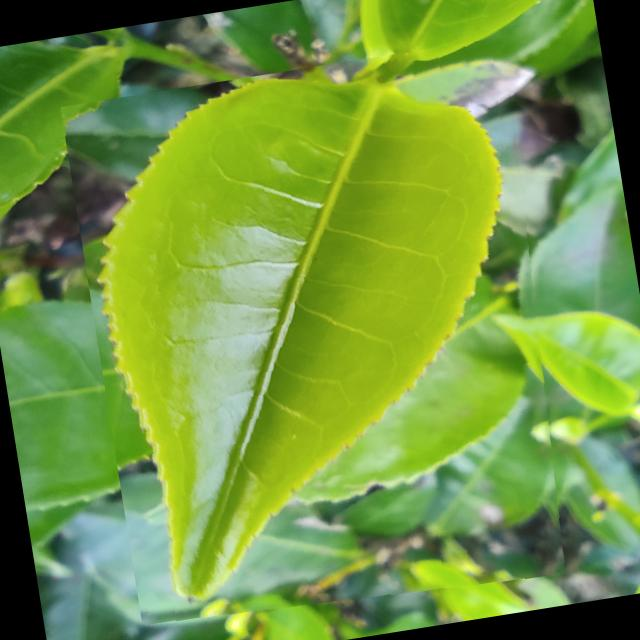Category B(2-4 days): (60, 36, 589, 640)
